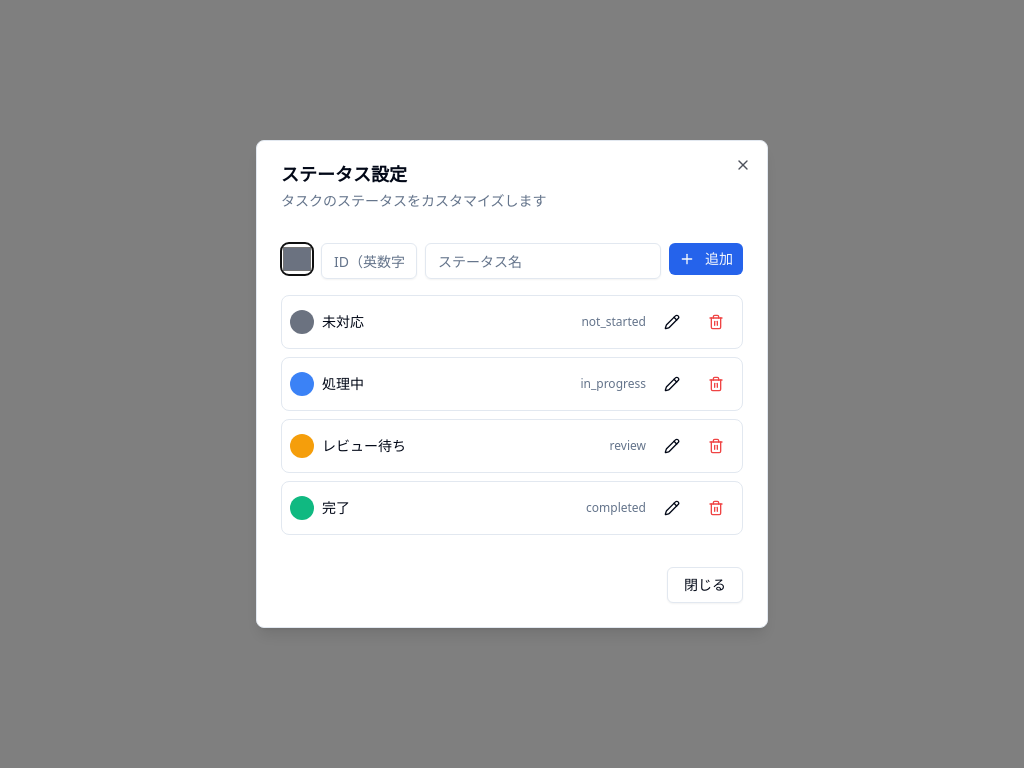
Test: StatusCustomizationDialog › ステータス編集 › ステータス名を編集できる
The image size is (1024, 768).
編集ボタンをクリック
Click the button with test id "edit-status-1".
click(672, 384)  # box [654,366,690,402]
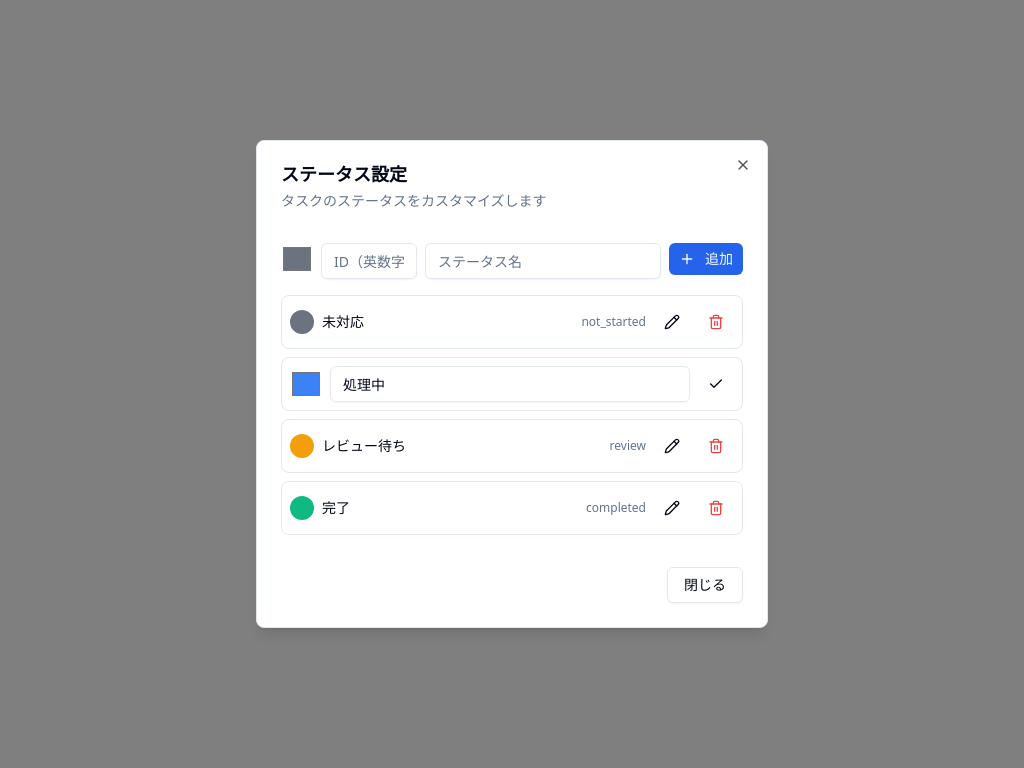
Replace the text in the field showing "処理中" with "作業中" at [510, 384], box [330,366,690,402]
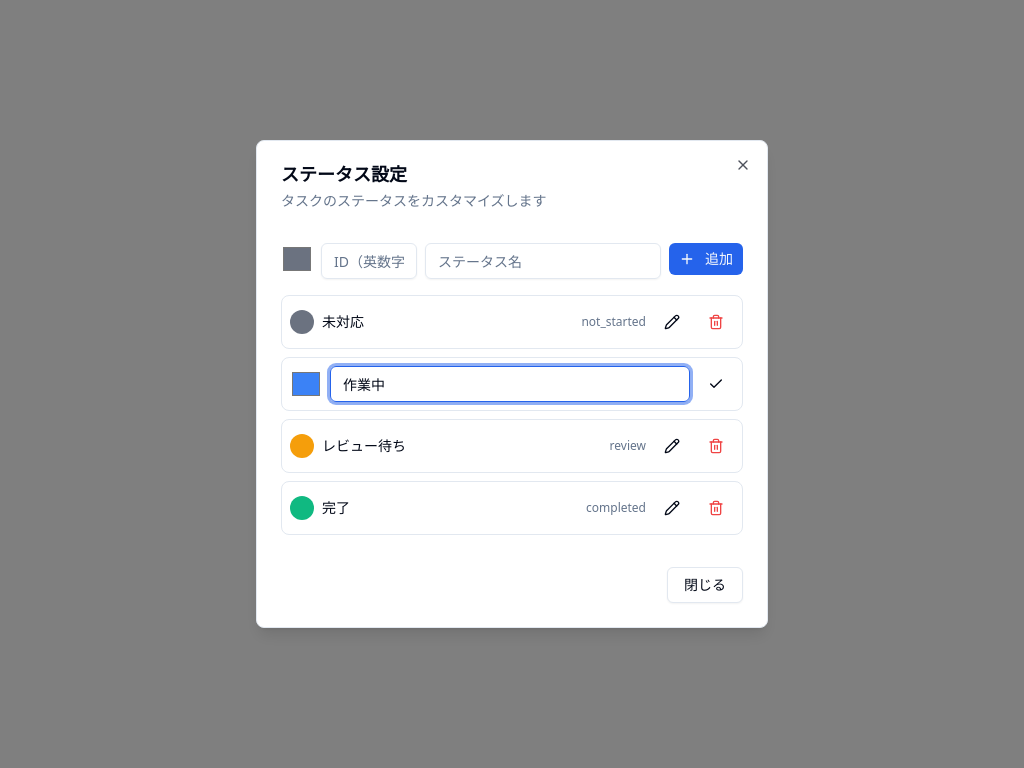
Click the button with test id "save-status-1".
click(716, 384)  # box [698,366,734,402]
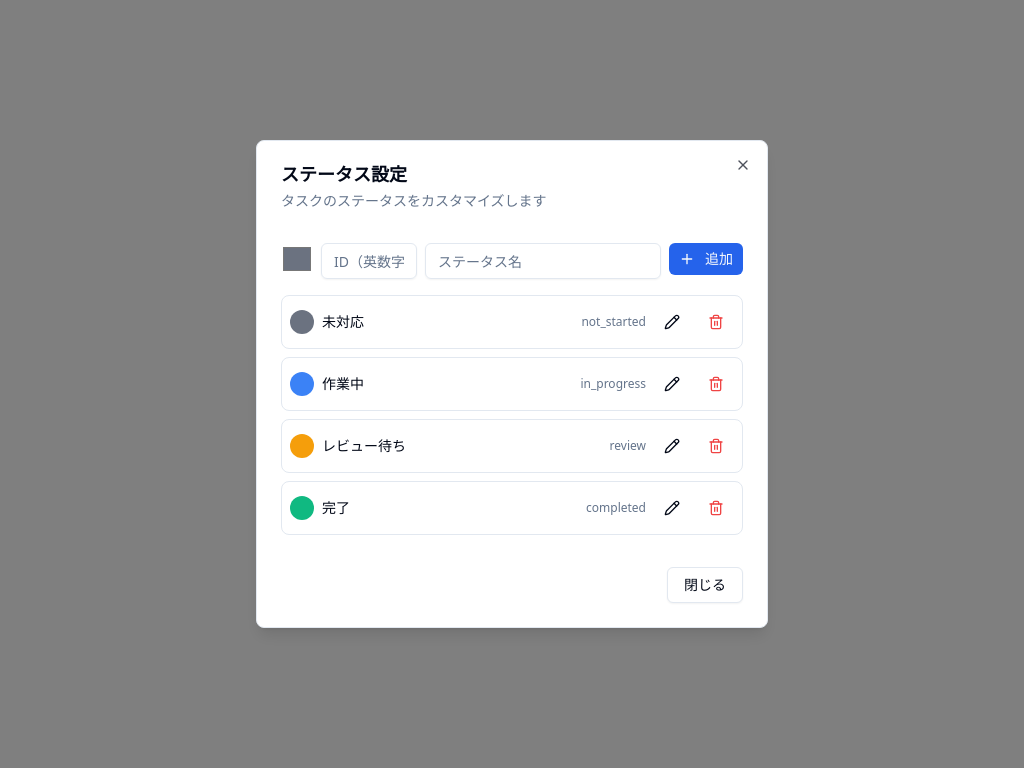
Now the text "作業中" is shown, box [322,374,364,393]
